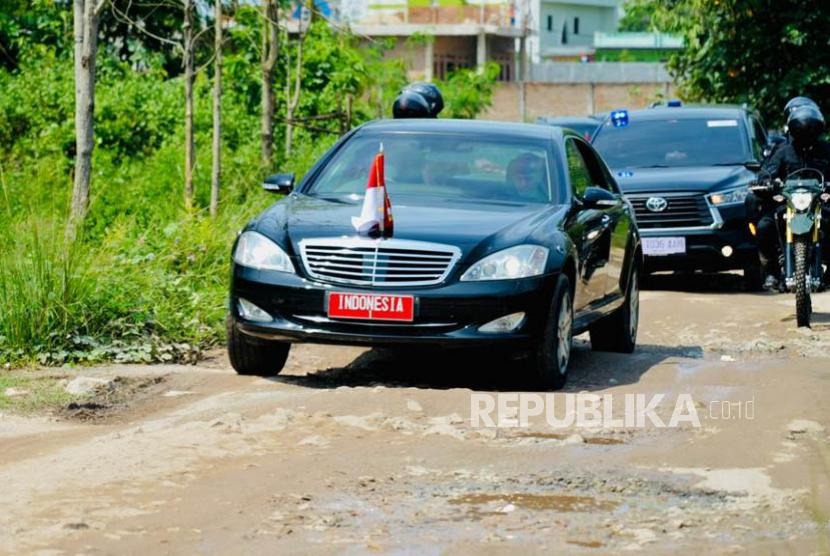Pothole: (429, 447, 655, 550), (481, 396, 647, 451), (662, 334, 807, 387), (1, 374, 129, 421)
